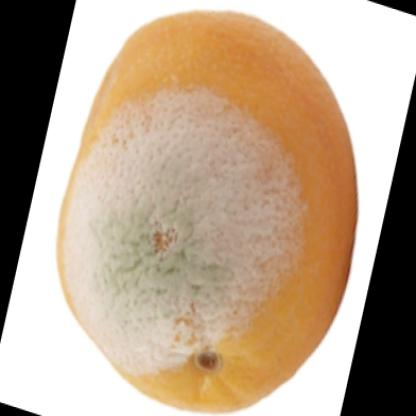rotten: (61, 12, 358, 412)
